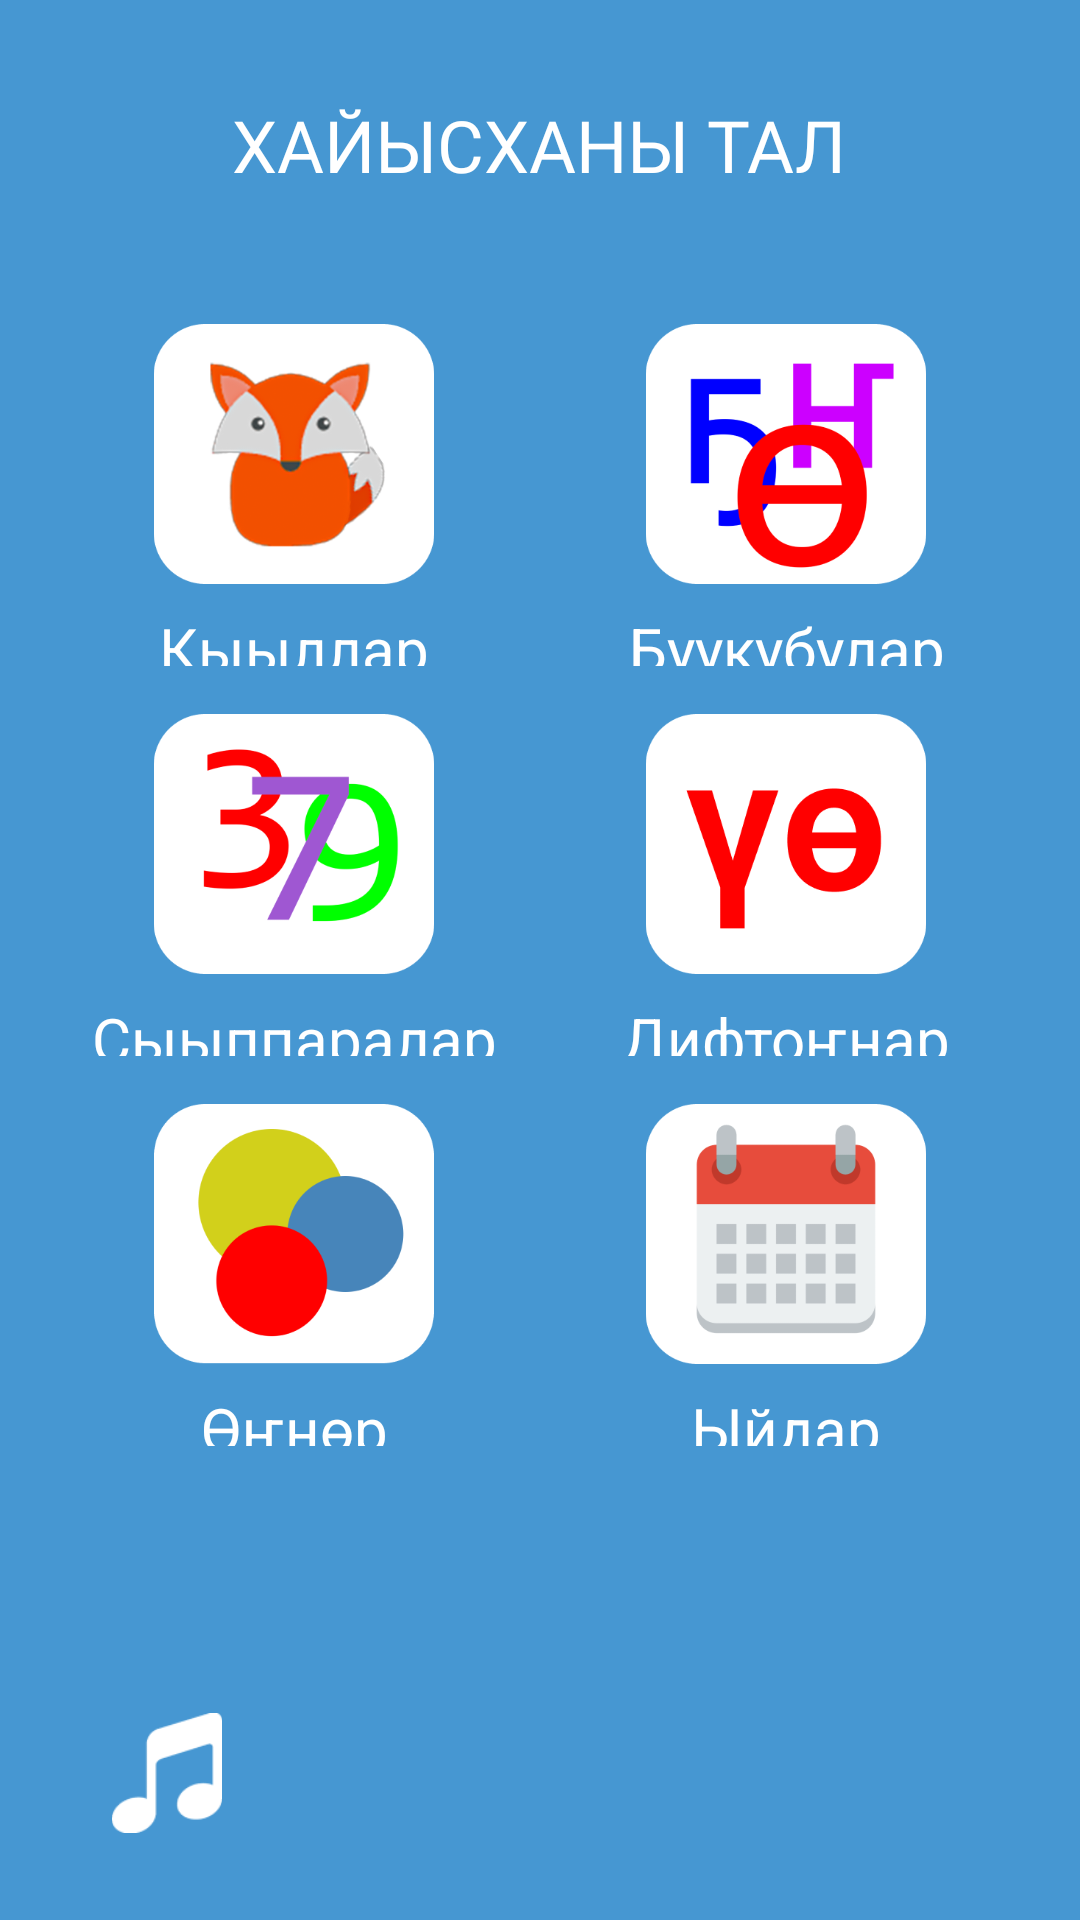

Icon click points for this 1080px x 1920px phone screenshot, format point (x, y):
music toggle: point (167, 1773)
